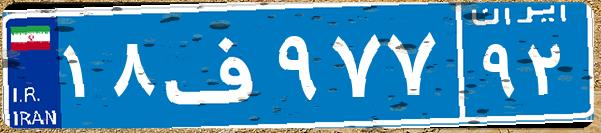1: (57, 26, 110, 107)
2: (525, 38, 570, 115)
7: (385, 28, 445, 110), (330, 28, 385, 110)
8: (110, 28, 158, 105)
9: (273, 28, 330, 110), (475, 38, 525, 113)
ف: (158, 15, 273, 115)
